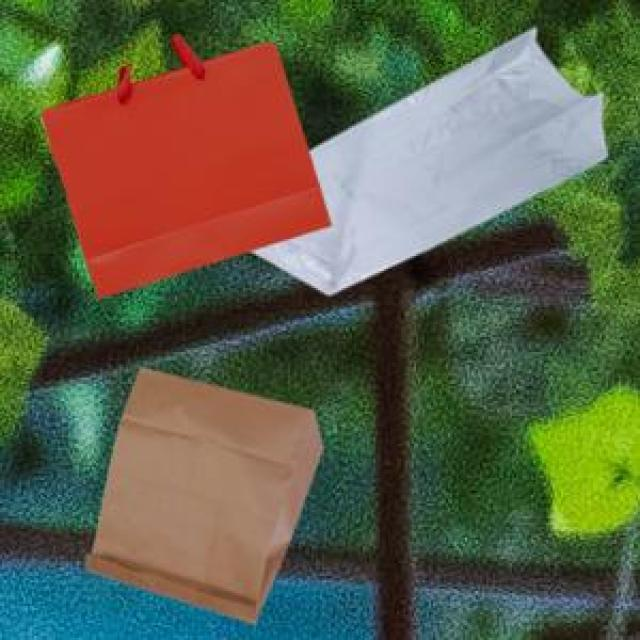paper: (36, 32, 326, 294), (83, 365, 318, 619)
